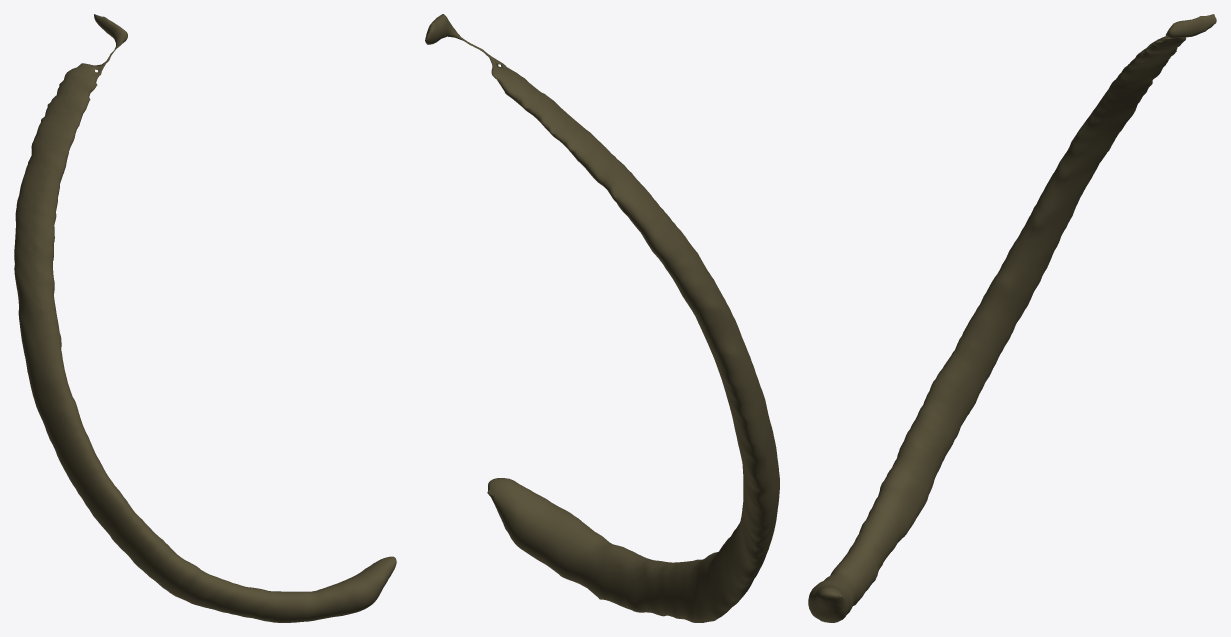
Rendered from segmentations_rib_left_3.obj.
The picture shows the model from 3 angles, left to right: view 1: azimuth 30°, elevation 25°; view 2: azimuth 150°, elevation 25°; view 3: azimuth 270°, elevation 25°; orthographic projection. The views are drawn at different scales.
Visible parts, largest first — view 1: grp1; view 2: grp1; view 3: grp1.
Boxes of the visible parts, bbox=[...] form: grp1: bbox=[14, 14, 396, 622]; grp1: bbox=[425, 14, 779, 622]; grp1: bbox=[808, 14, 1216, 622].
Bounding box in the file's own units: 55.51 × 98.47 × 64.44.
